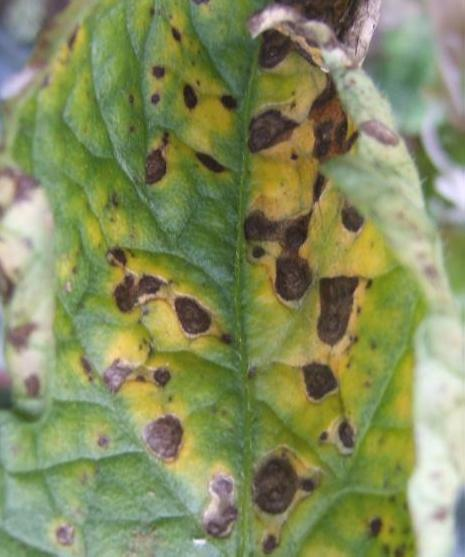Tomato Early blight leaf: (0, 0, 432, 557)
